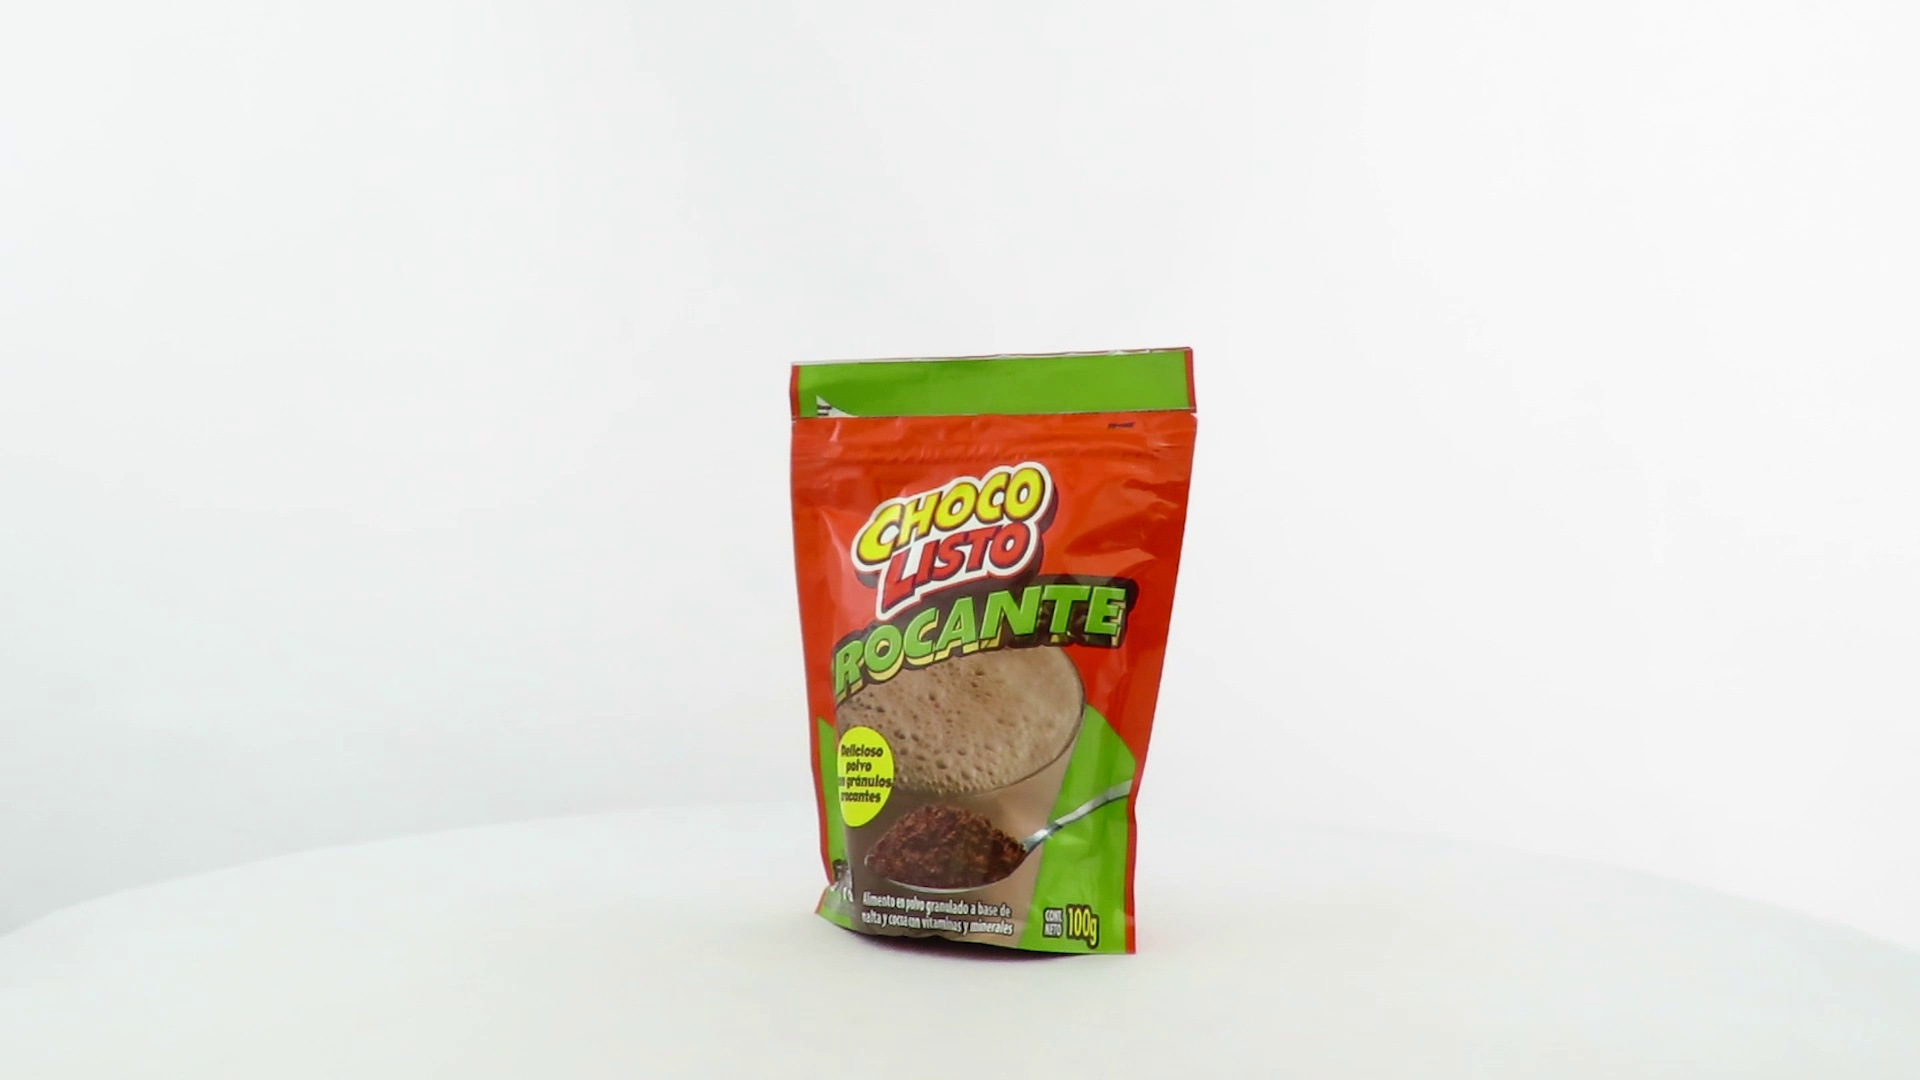COL0170102DYP10000: (785, 342, 1204, 968)
